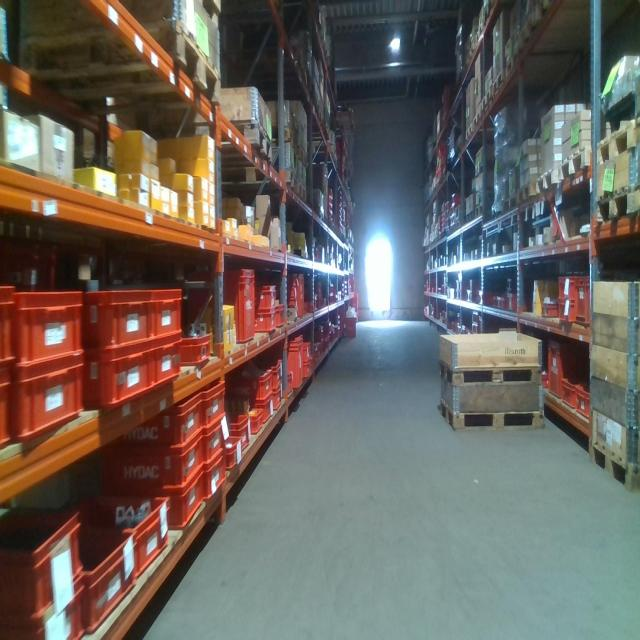pallet: (13, 22, 221, 117), (152, 117, 274, 173), (440, 396, 548, 431), (440, 357, 541, 387), (588, 438, 638, 493), (595, 119, 637, 175), (218, 173, 299, 195), (593, 189, 638, 228), (560, 143, 593, 187), (518, 20, 546, 55), (536, 165, 561, 203), (518, 182, 534, 215), (504, 58, 518, 84), (501, 195, 513, 223), (490, 70, 502, 97), (475, 199, 486, 227), (466, 205, 475, 232)
small_load_carrier: (50, 493, 167, 571), (1, 504, 82, 616), (101, 432, 204, 502), (14, 359, 87, 448), (103, 395, 200, 453), (15, 288, 85, 368), (86, 529, 137, 630), (186, 271, 256, 338), (1, 588, 87, 639), (76, 291, 150, 350), (85, 344, 149, 410), (152, 468, 204, 531), (142, 286, 186, 348), (546, 334, 585, 403), (145, 337, 184, 390), (175, 331, 216, 378), (230, 365, 274, 403), (202, 378, 231, 431), (1, 286, 18, 373), (1, 366, 17, 458), (284, 334, 304, 397), (203, 416, 226, 470), (202, 456, 226, 503), (224, 412, 250, 450), (574, 276, 590, 325), (259, 396, 277, 437), (249, 282, 275, 310), (239, 407, 264, 436), (224, 433, 243, 471), (295, 275, 306, 323), (559, 376, 575, 408), (575, 382, 590, 416), (253, 310, 274, 334), (274, 382, 289, 412), (557, 275, 574, 301), (269, 359, 282, 393), (506, 288, 523, 313), (557, 301, 575, 323), (279, 274, 298, 294), (345, 314, 359, 337), (542, 301, 559, 319), (276, 303, 287, 330), (278, 290, 297, 300), (302, 344, 311, 365), (305, 362, 313, 376)
